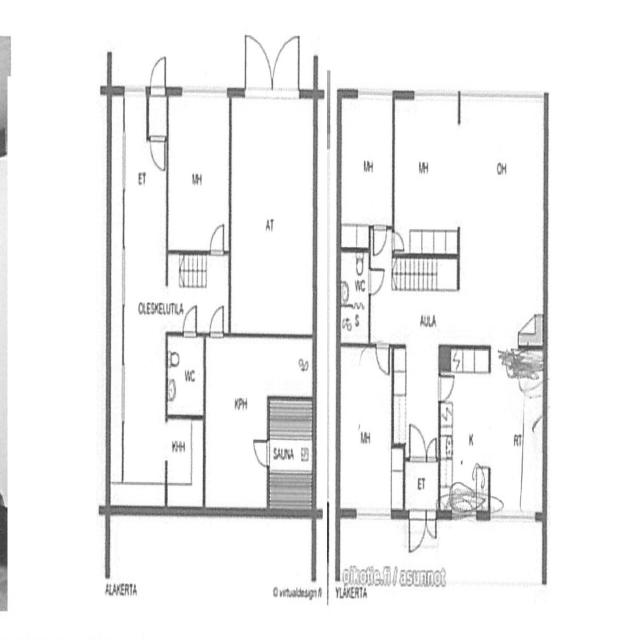door: (239, 32, 304, 98), (146, 128, 170, 180), (147, 51, 170, 99), (406, 507, 428, 555), (406, 419, 426, 464), (251, 433, 273, 473), (208, 218, 228, 258), (208, 300, 227, 342), (181, 301, 200, 342), (436, 368, 456, 406), (375, 341, 393, 382), (423, 506, 439, 547), (367, 264, 386, 296), (371, 222, 388, 256), (424, 433, 440, 464), (390, 228, 406, 256)
window: (409, 86, 462, 109), (178, 82, 232, 103), (352, 505, 394, 526), (493, 509, 538, 528), (117, 242, 128, 314), (120, 77, 150, 101), (354, 86, 394, 104), (116, 358, 126, 428), (450, 510, 477, 526)
zone: (457, 92, 546, 351), (228, 89, 316, 340), (203, 336, 316, 510), (438, 348, 546, 518), (111, 90, 166, 310), (392, 93, 460, 257), (167, 88, 230, 254), (338, 342, 398, 515), (339, 90, 394, 243), (492, 361, 544, 518), (164, 414, 204, 513), (165, 332, 205, 418), (339, 249, 370, 345)
